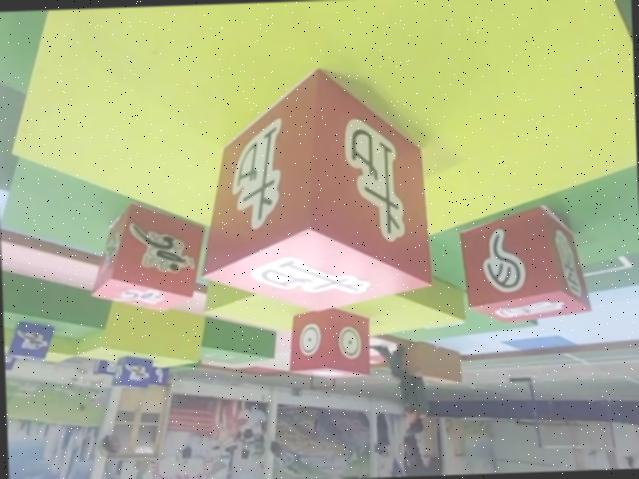R1: (87, 198, 210, 315)
R2 Fake: (458, 201, 594, 325)
R2 Real: (192, 65, 436, 313), (288, 306, 374, 376)
